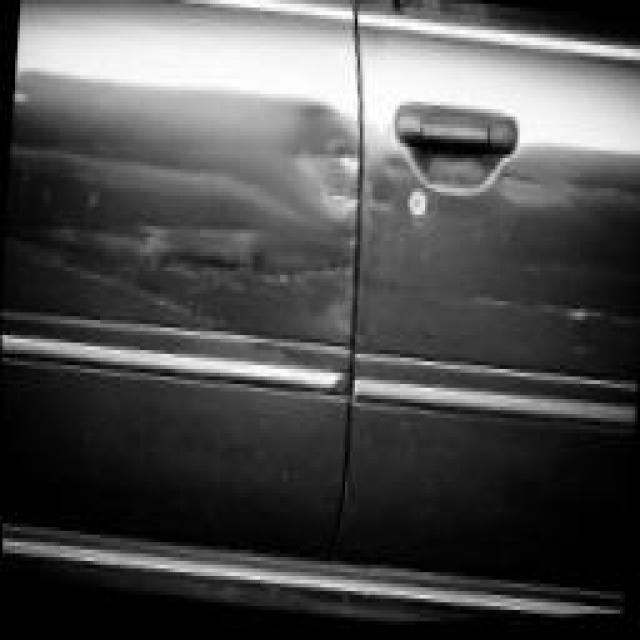Door: (0, 0, 640, 565)
